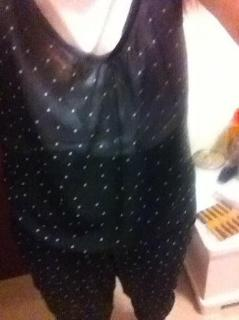trousers: (19, 206, 197, 319)
